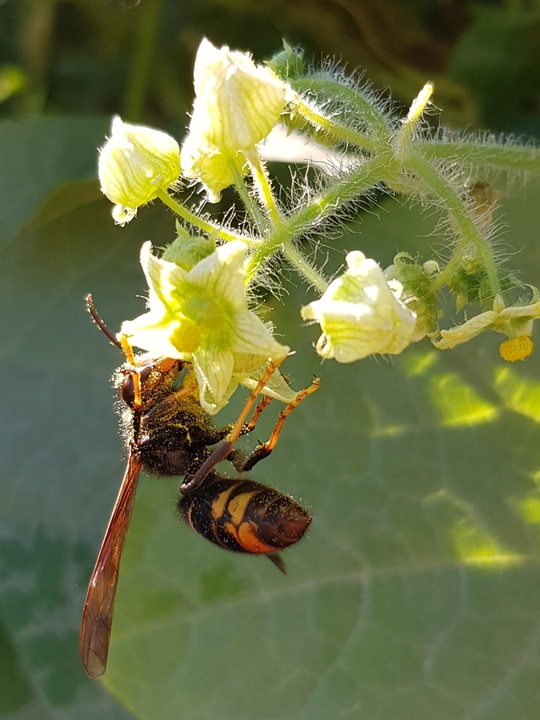hornet: (78, 327, 340, 595)
